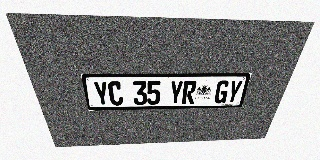3: (133, 81, 147, 105)
5: (147, 81, 161, 105)
C: (107, 81, 124, 106)
G: (213, 80, 231, 103)
R: (182, 81, 197, 104)
Y: (92, 81, 110, 106), (225, 80, 243, 103), (169, 81, 184, 104)
